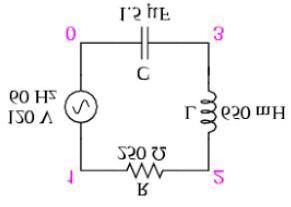Capacitor: (127, 27, 162, 59)
